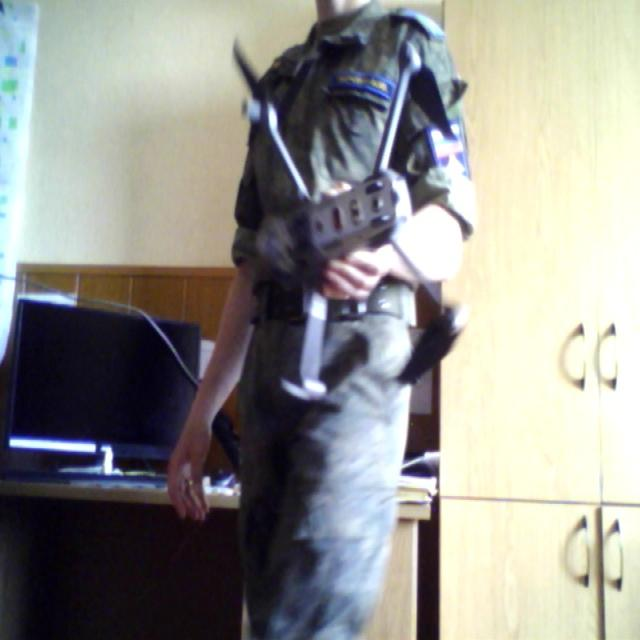drone: (225, 48, 478, 420)
